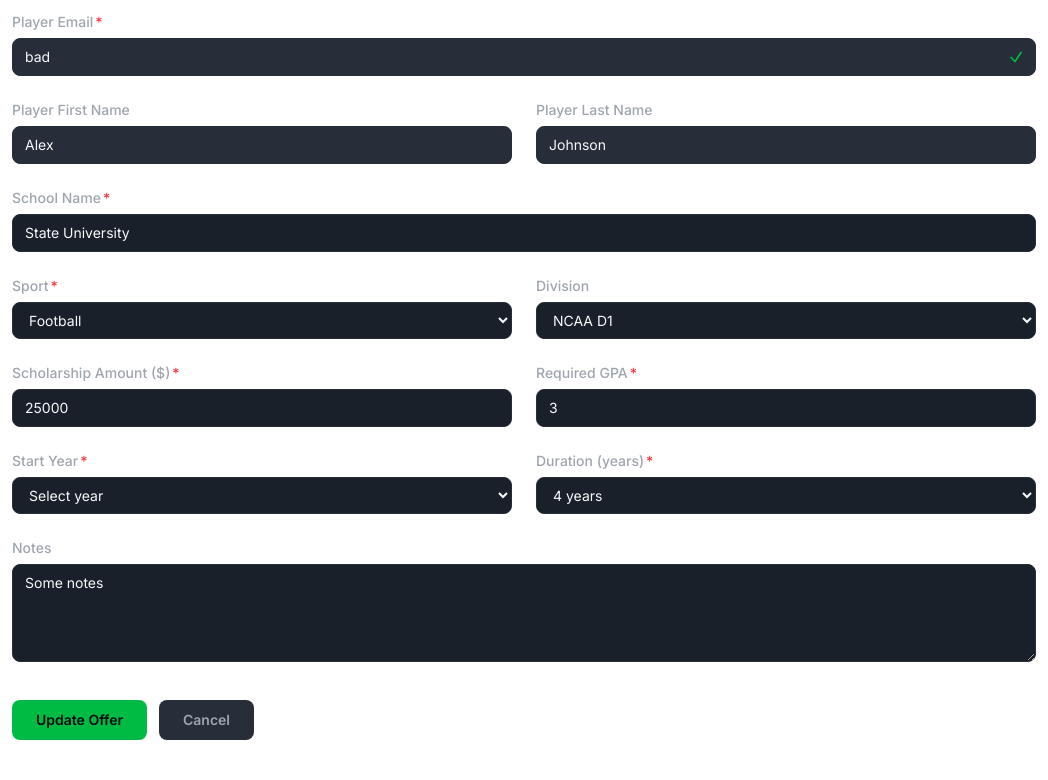
it: ScholarshipForm — validation › shows error for invalid email format on submit
Click the button "Update Offer" at (80, 720), box [12,700,147,740]
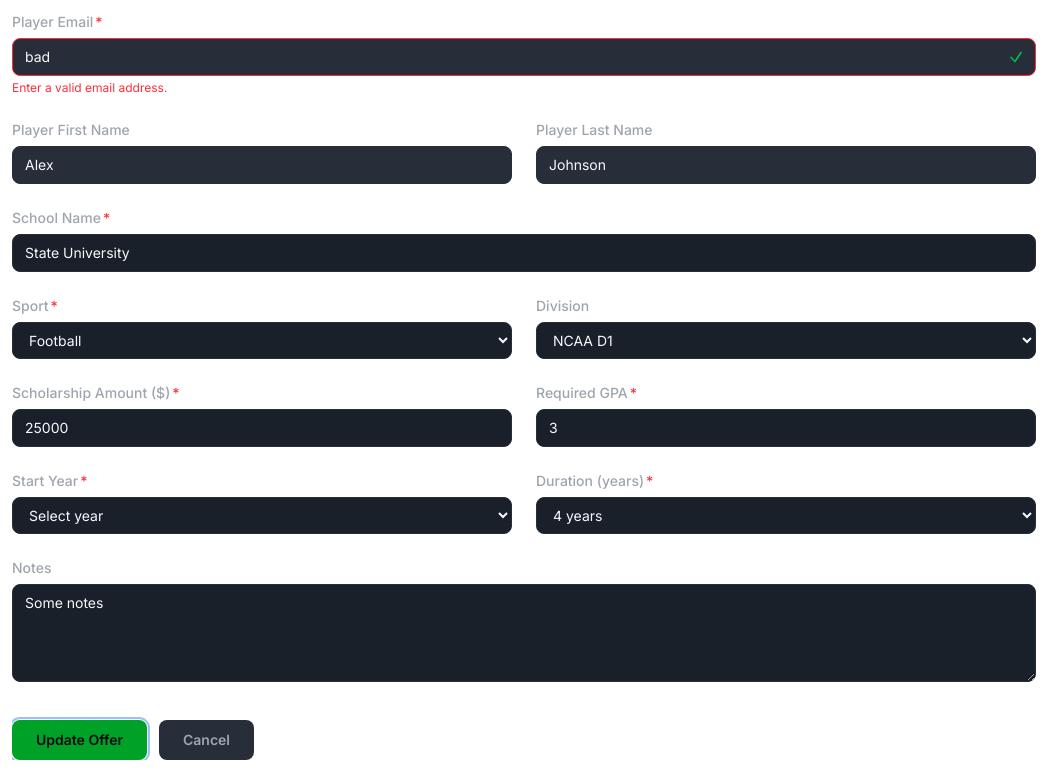
Now the text "Enter a valid email address." is shown, box [12,80,167,95]
